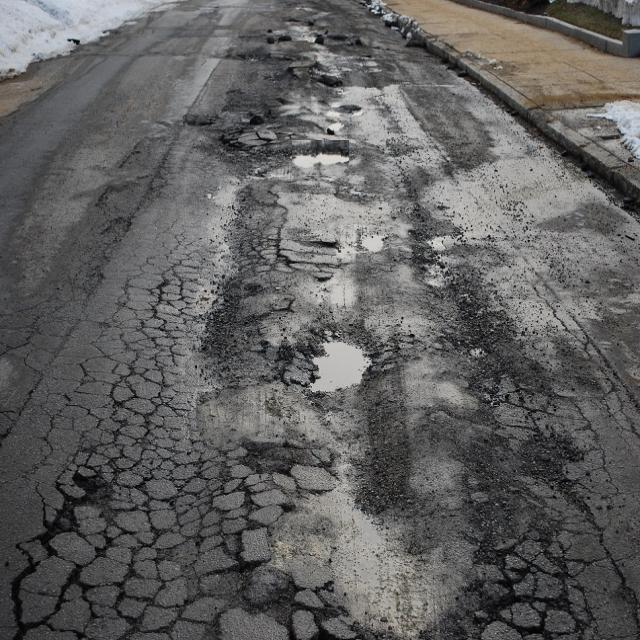Pothole: (291, 320, 385, 409), (292, 140, 349, 176)
